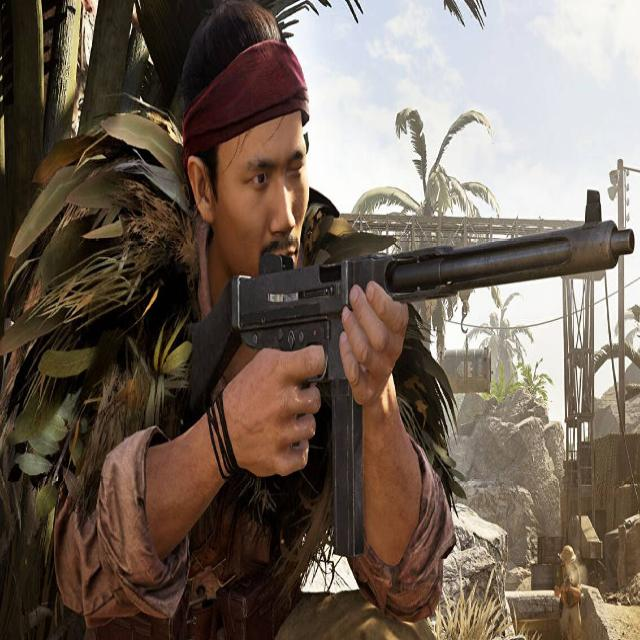Weapon: (189, 216, 634, 555)
